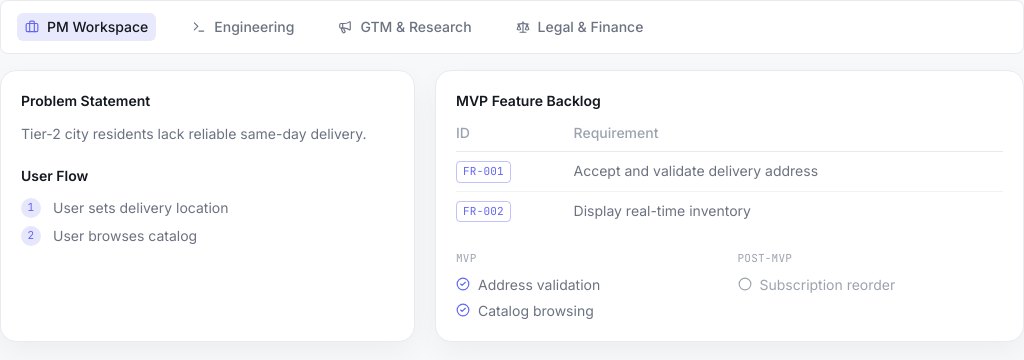
WorkspaceTabs switching › switches to GTM & Research content on click
Click the tab "GTM & Research" at x=405, y=27, box [318,5,492,49]
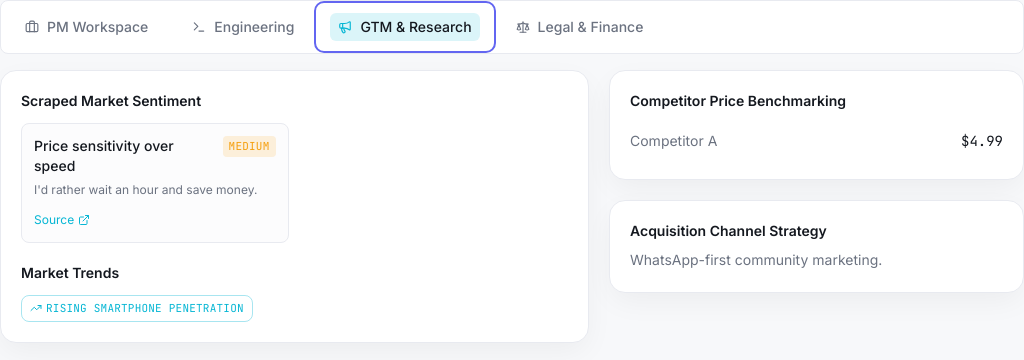
Now the heading "Scraped Market Sentiment" is shown, box [21,92,201,109]
